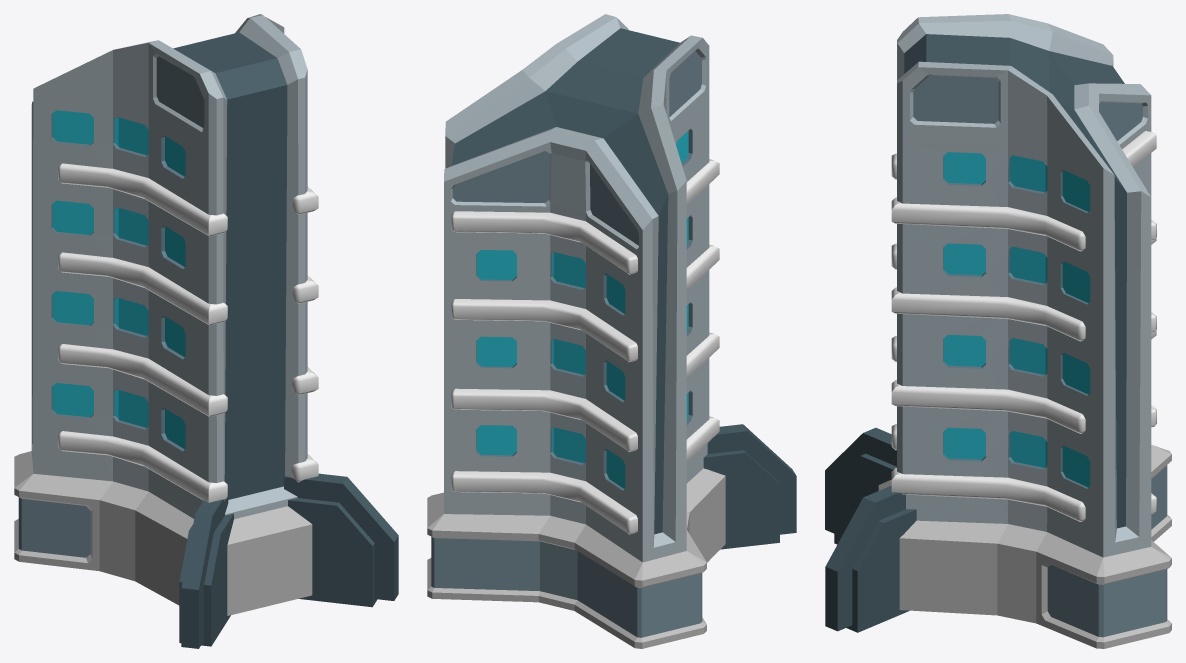
The model's file is building_002.fbx.
3 views of the same model, side by side, from view 1: azimuth 30°, elevation 25°; view 2: azimuth 150°, elevation 25°; view 3: azimuth 270°, elevation 25° (orthographic). The views are drawn at different scales.
Parts seen in each view (by area): view 1: building_002; view 2: building_002; view 3: building_002.
Boxes of the visible parts, x1,y1,x2,y2 form: building_002: (14,14,398,648); building_002: (427,14,796,648); building_002: (825,14,1171,648).
Size of the model in its own units: 1593 by 1643 by 2827.
